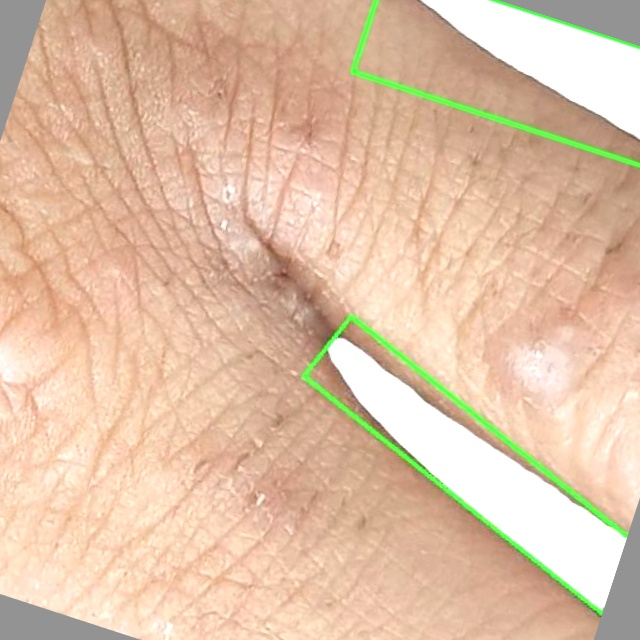Scabies: (301, 315, 623, 620), (352, 0, 639, 165)
